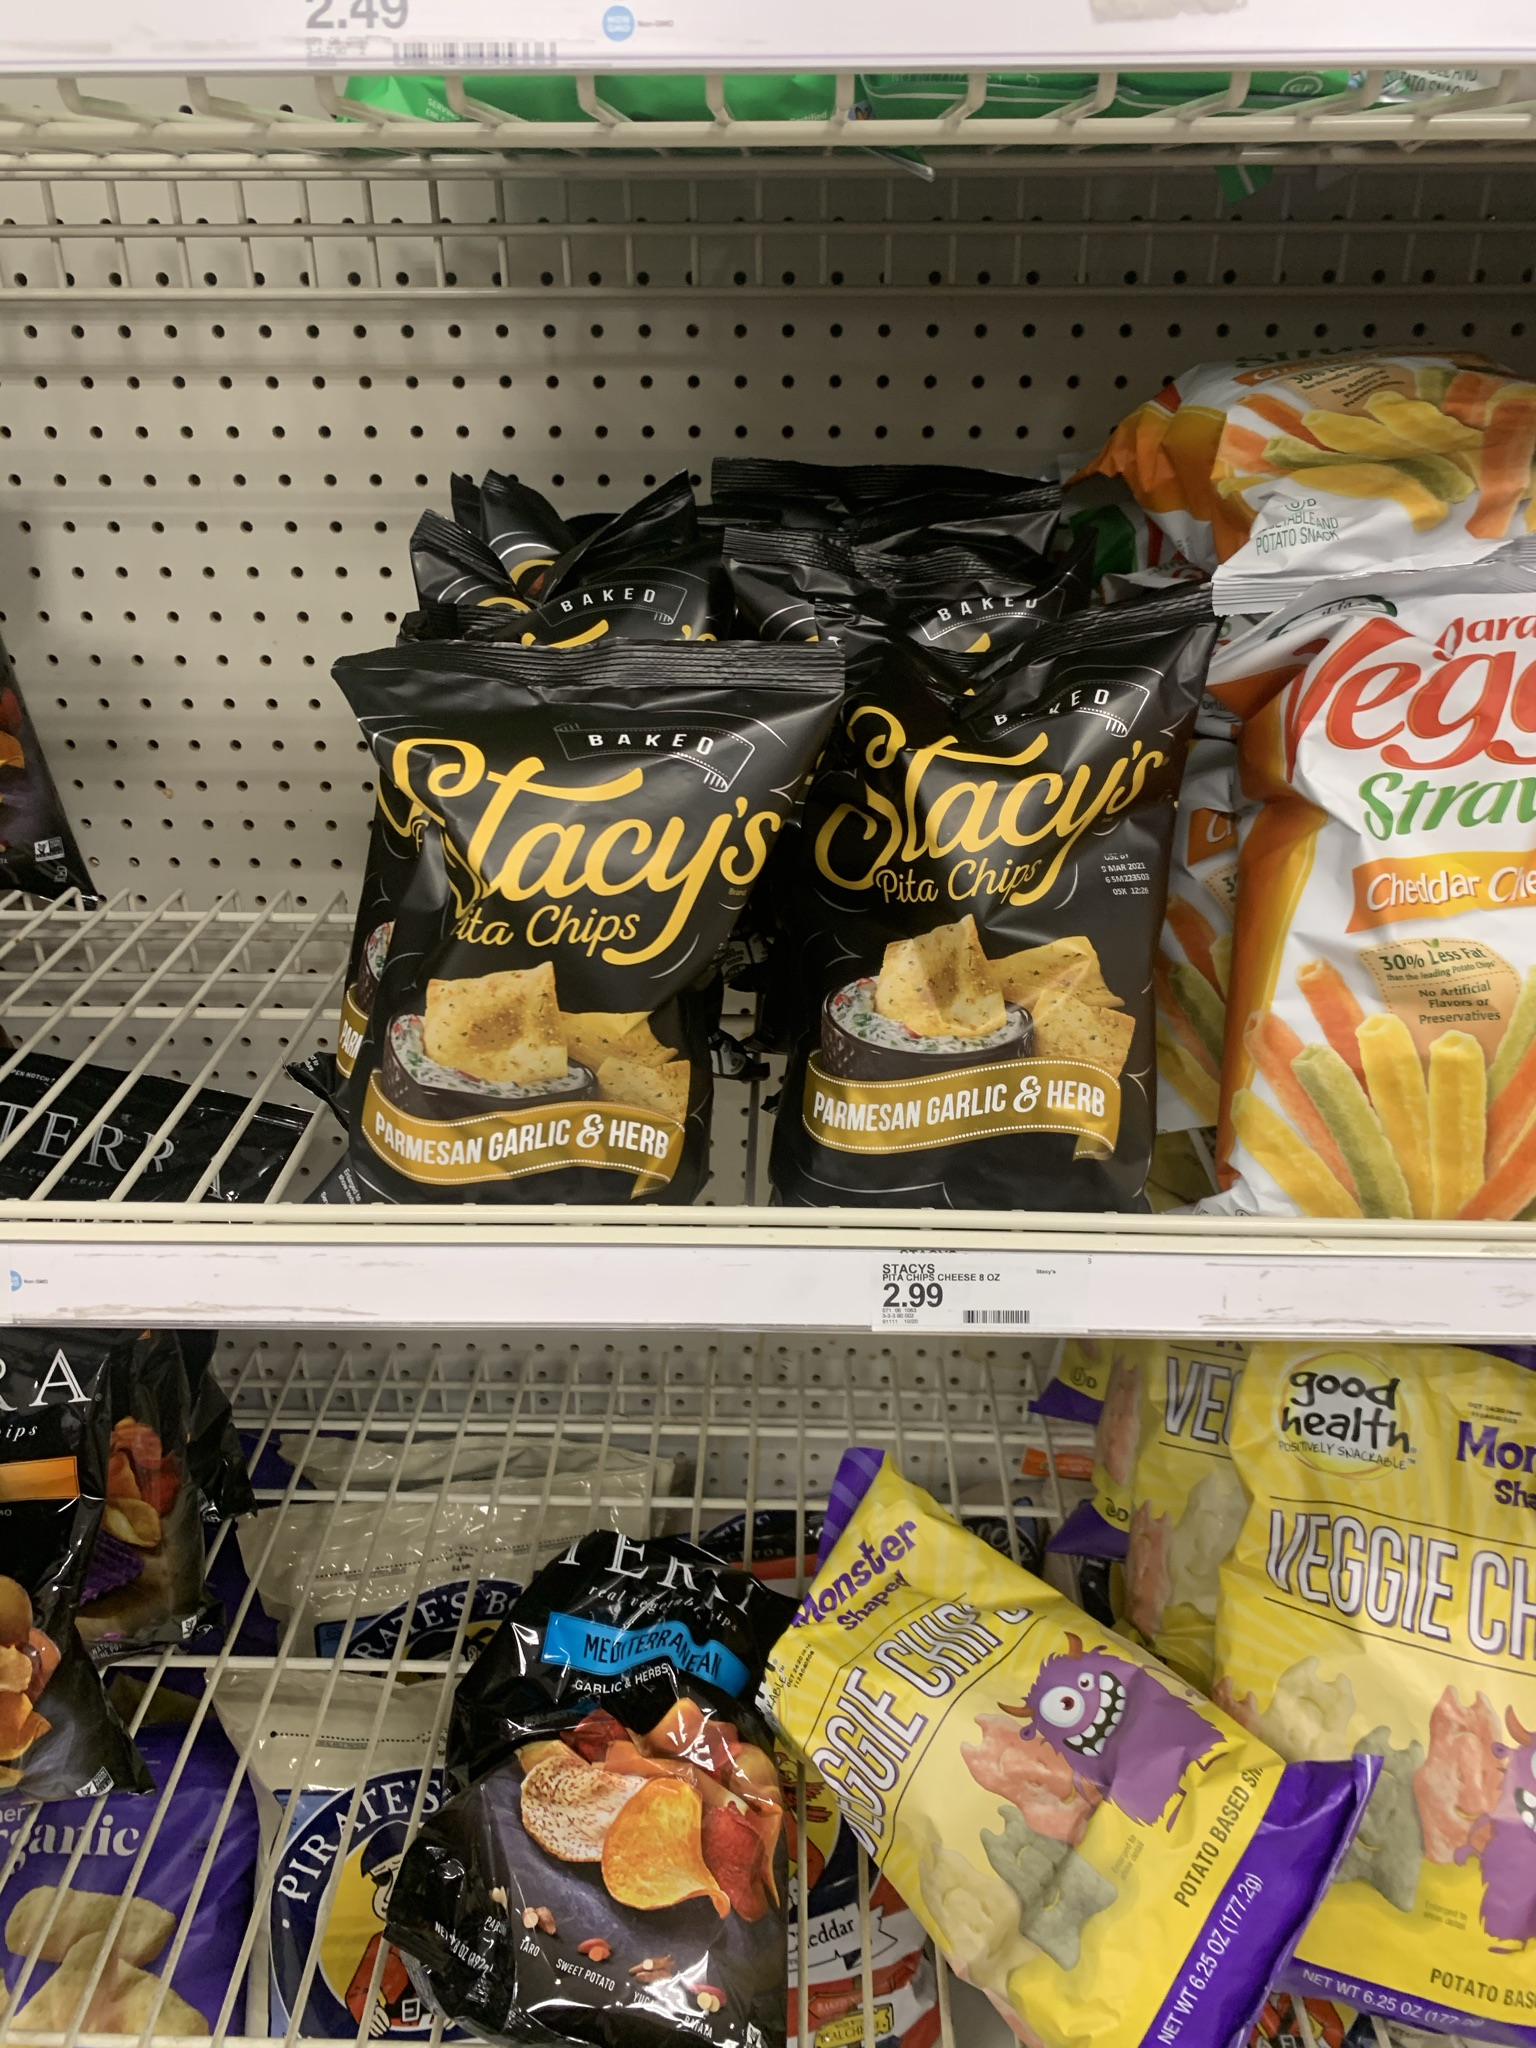stacy chips: (820, 660, 1171, 1219)
stcy chips: (373, 671, 757, 1224)
veggie chips: (815, 1506, 1320, 2025), (1284, 1355, 1518, 2006), (1299, 614, 1536, 1224)
